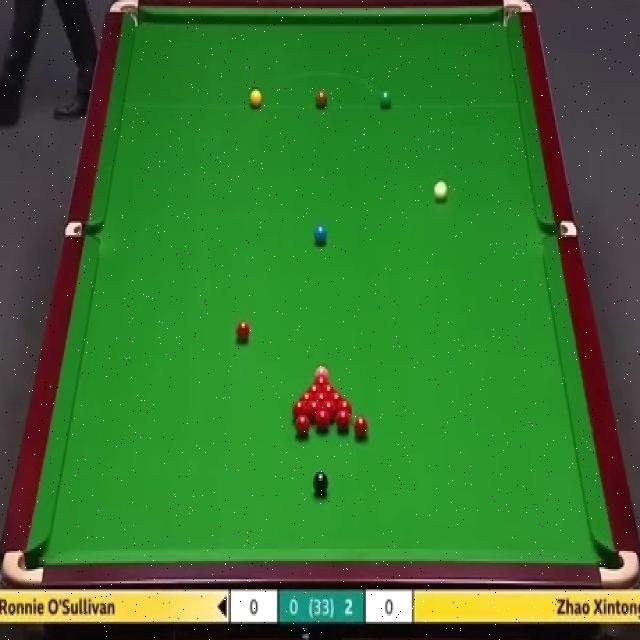black-ball: (312, 471, 330, 498)
blue-ball: (313, 224, 328, 246)
brown-ball: (315, 89, 328, 109)
green-ball: (378, 89, 392, 109)
pink-ball: (314, 364, 330, 378)
red-ball: (235, 320, 253, 348), (353, 417, 371, 439), (336, 409, 352, 431), (295, 414, 310, 436), (315, 409, 329, 431), (322, 401, 337, 421), (292, 399, 308, 416), (337, 401, 353, 417), (308, 401, 321, 418), (299, 391, 314, 402), (314, 392, 330, 402), (330, 393, 345, 402), (322, 384, 337, 393), (307, 384, 322, 392), (314, 376, 329, 384)
white-ball: (431, 176, 450, 204)
yellow-ball: (250, 90, 262, 109)
